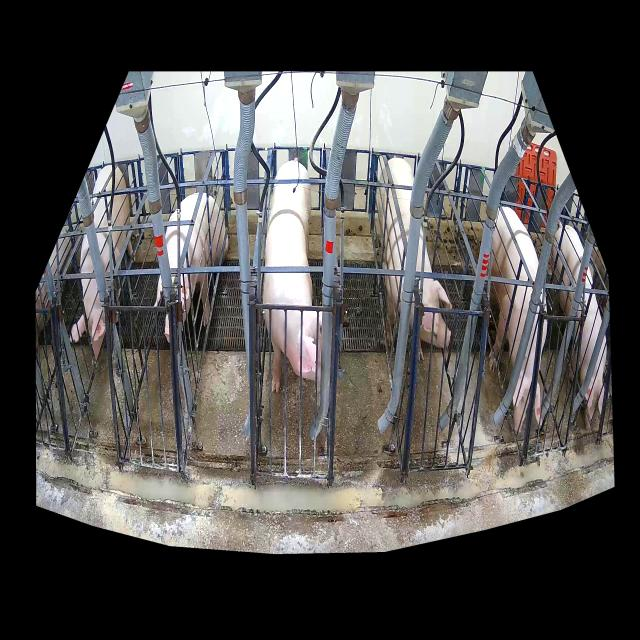pig: (379, 158, 452, 361), (263, 161, 322, 393), (488, 207, 547, 432), (547, 225, 607, 431), (72, 165, 133, 360), (154, 193, 228, 345)
